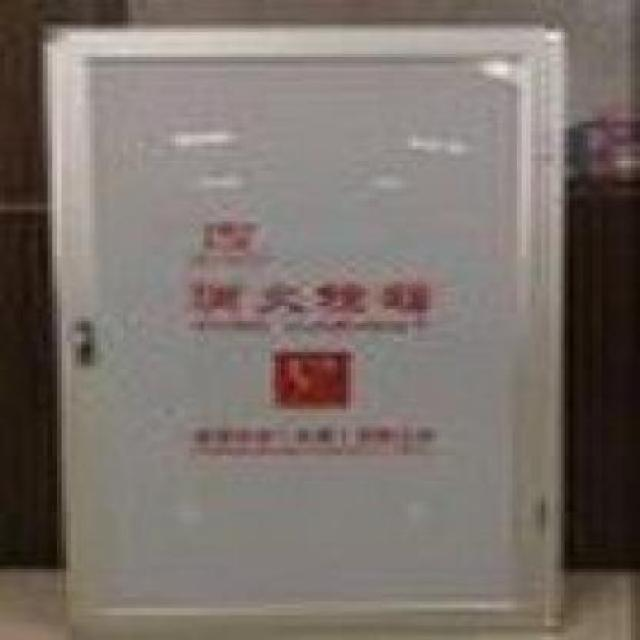firehydrant: (37, 18, 570, 640)
